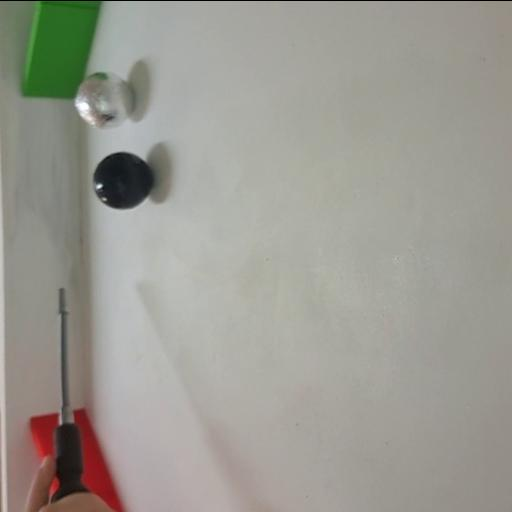alive: (75, 71, 135, 129)
dead: (93, 151, 153, 209)
